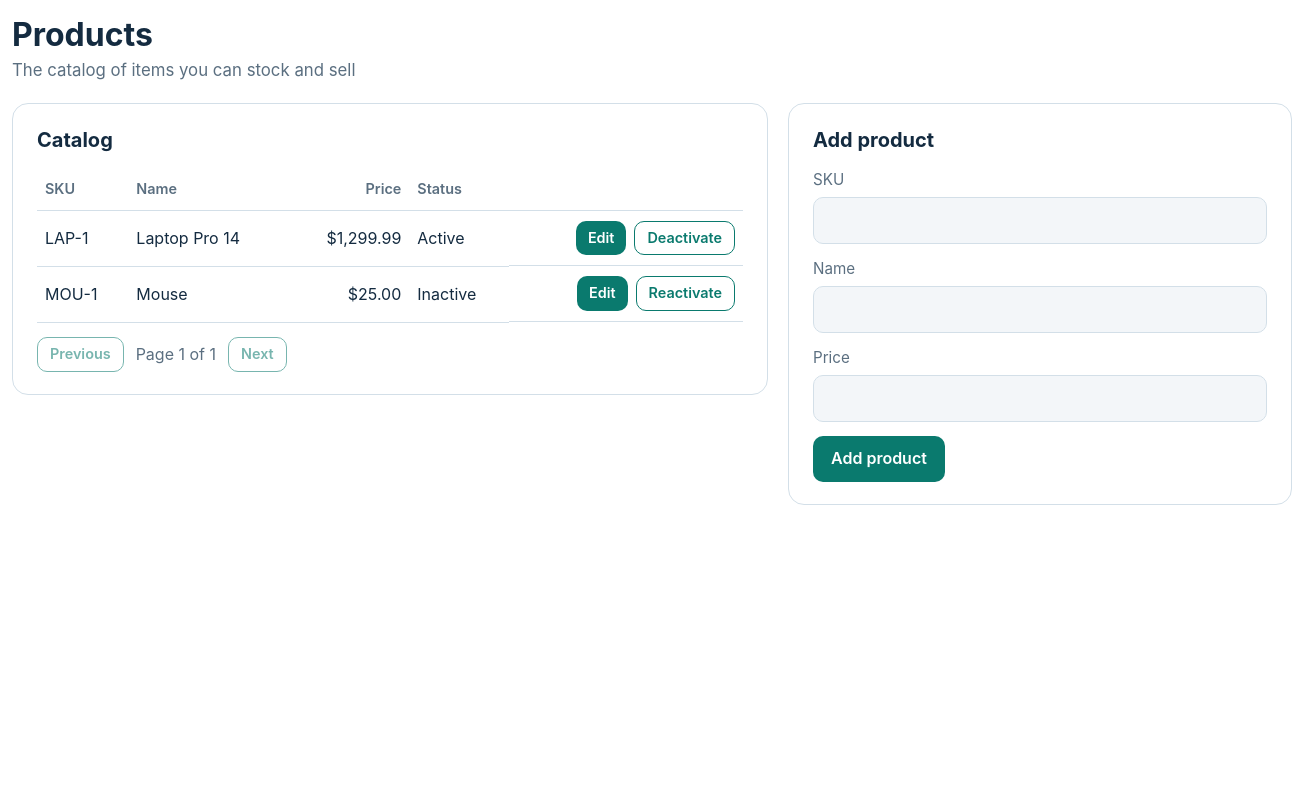
ProductsPage create › sends the new product to the API, confirms, clears the form and refreshes the list
This screenshot has width=1292, height=812.
Expected: the text "LAP-1" is shown, 37,210 -> 128,266
Type "new-1" into the field labelled "SKU" at (1040, 220), box 813,197 -> 1267,244
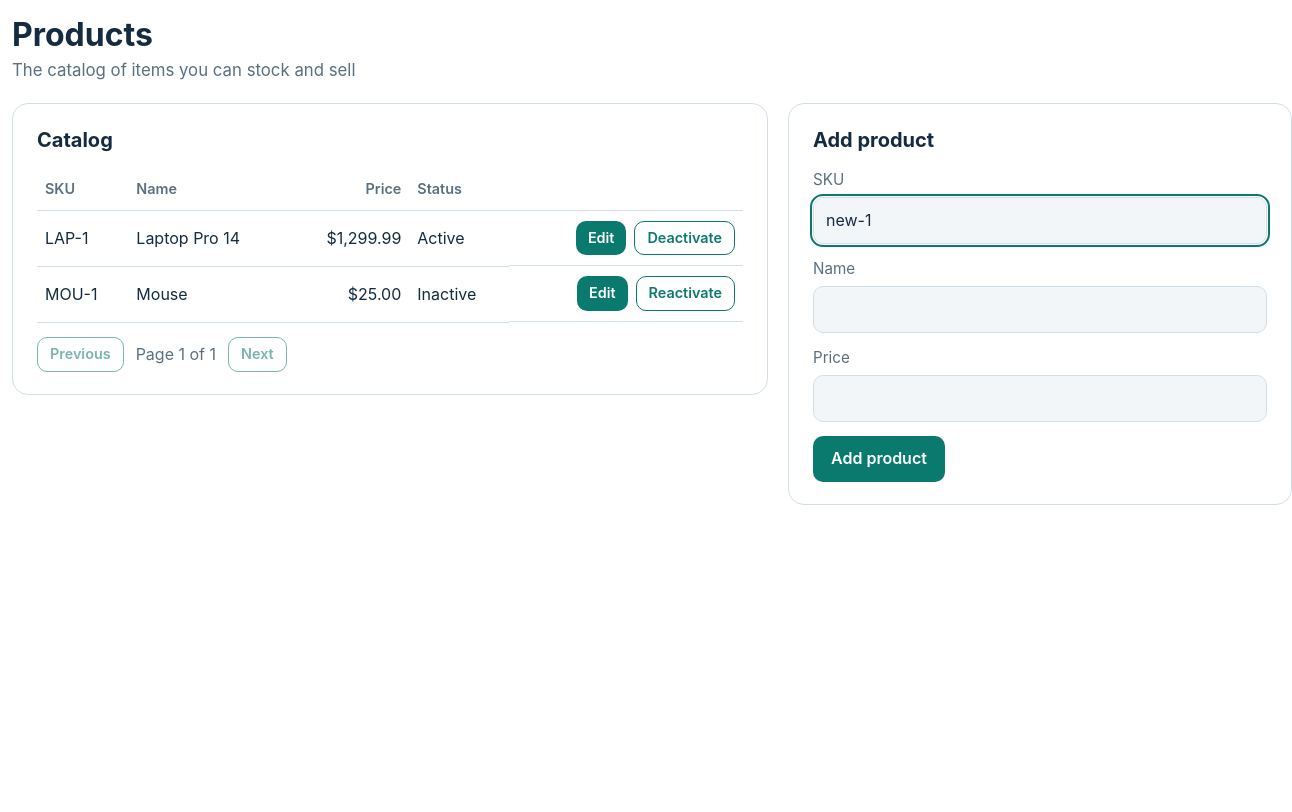
Type "New thing" into the field labelled "Name" at (1040, 310), box 813,286 -> 1267,333
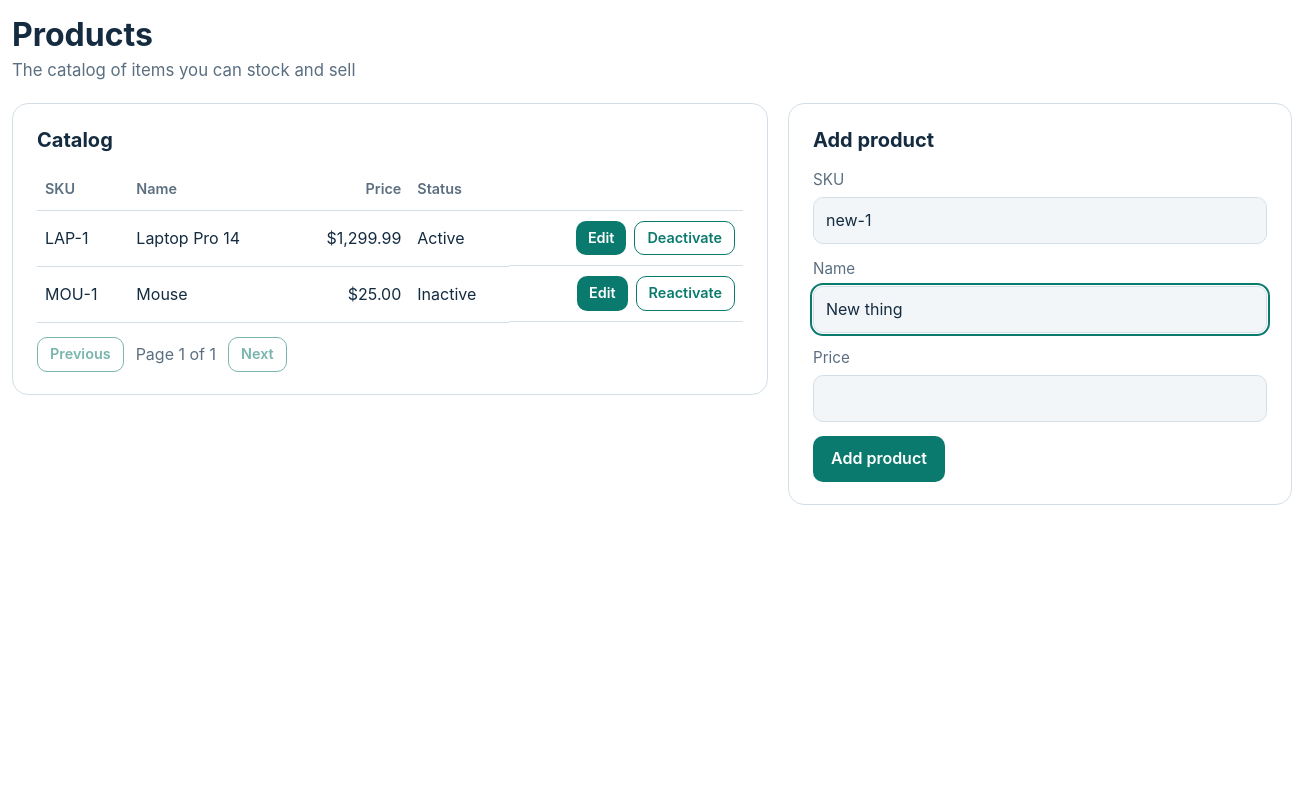
Type "12.50" into the field labelled "Price" at (1040, 399), box 813,375 -> 1267,422
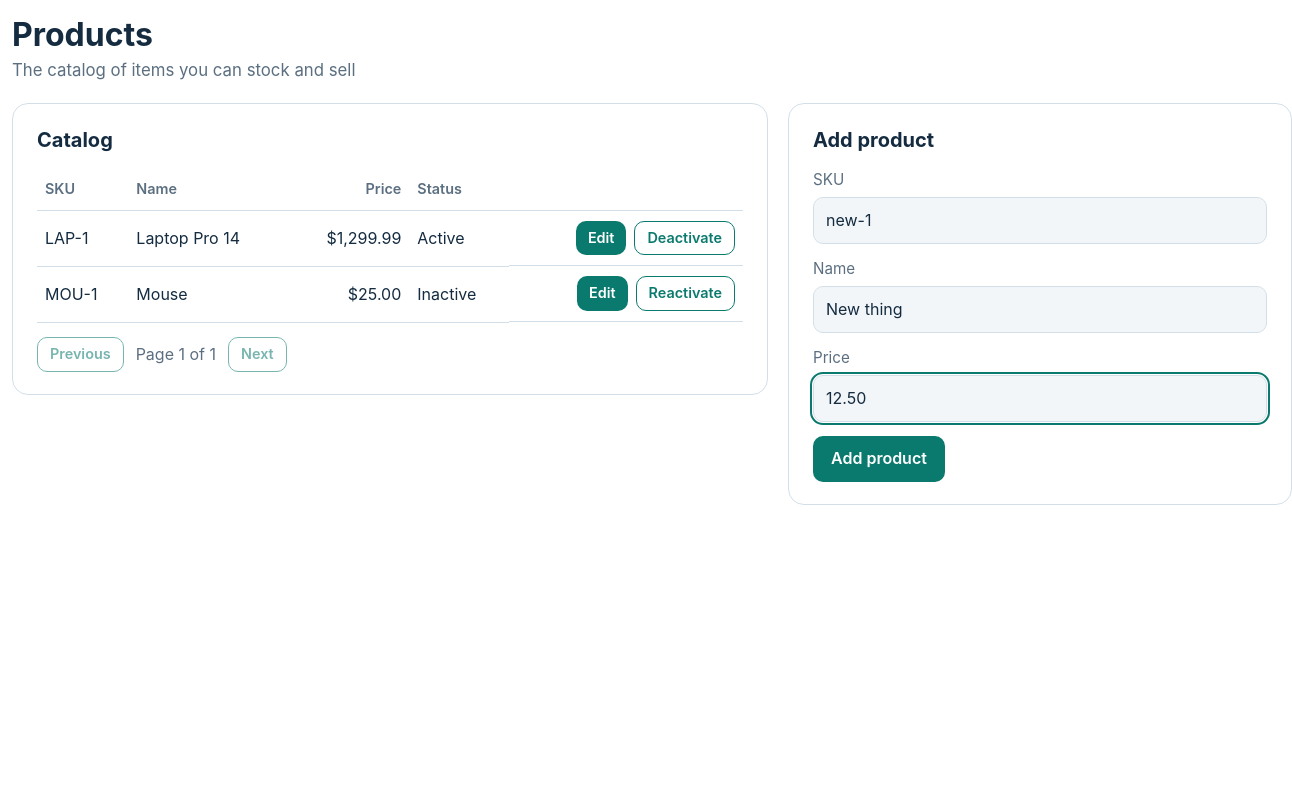
Click the button "Add product" at (879, 459), box 813,436 -> 945,482
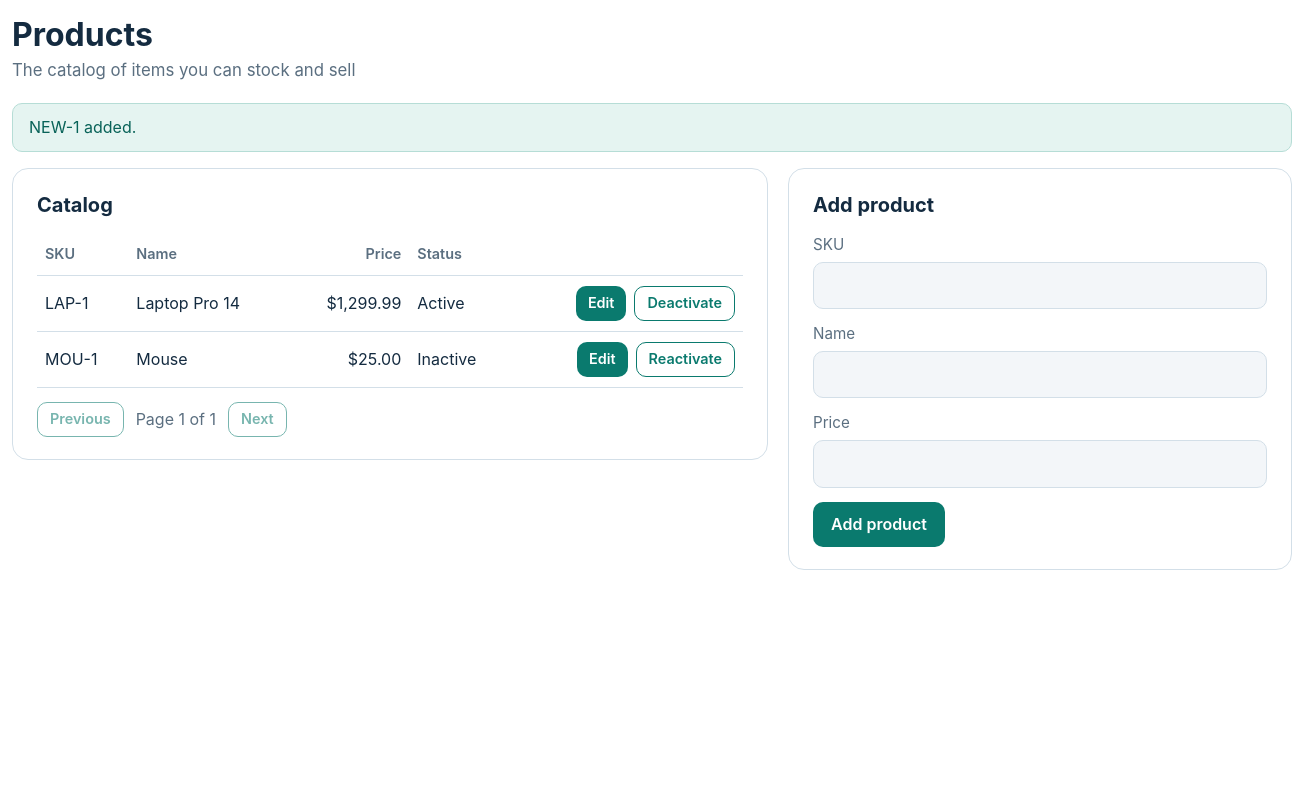
Expected: the text "NEW-1 added." is shown, 12,103 -> 1291,152
Expected: the field labelled "SKU" is empty, 813,262 -> 1267,309
